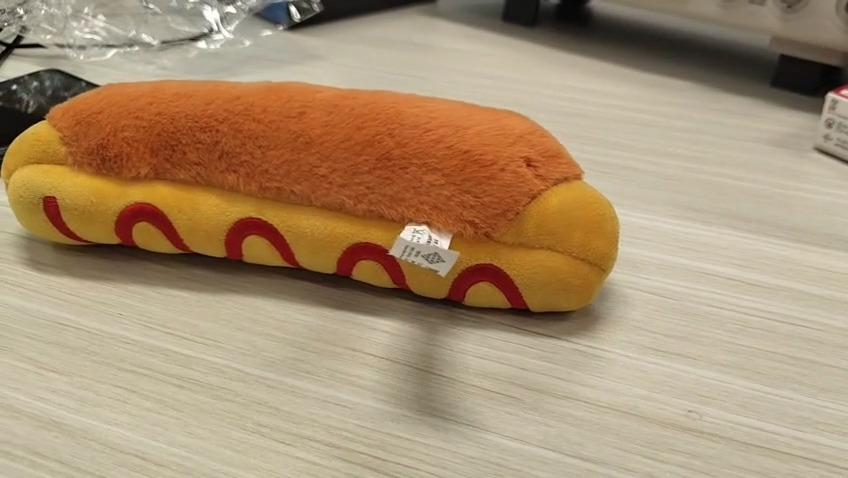hotdog: (1, 81, 620, 315)
